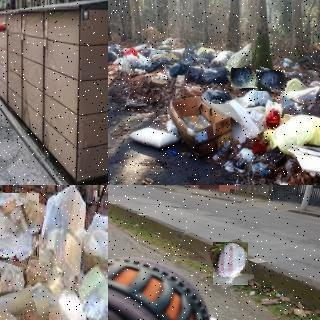Garbage: (0, 188, 43, 264), (263, 113, 320, 150), (72, 263, 108, 320), (210, 240, 251, 287), (0, 248, 29, 309), (78, 229, 108, 286), (282, 90, 320, 117), (255, 68, 286, 93), (88, 214, 108, 250), (230, 66, 257, 90), (200, 66, 229, 84), (181, 64, 202, 82), (108, 44, 122, 59)
